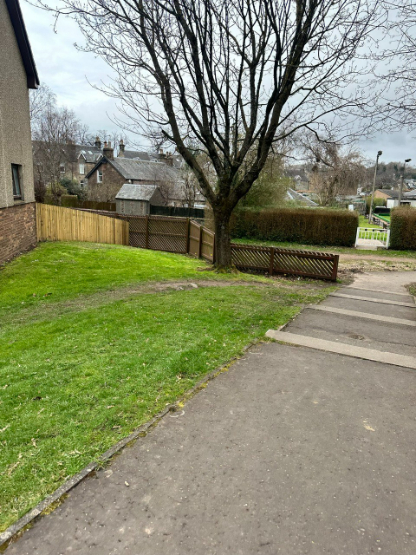tree: (29, 0, 389, 268)
